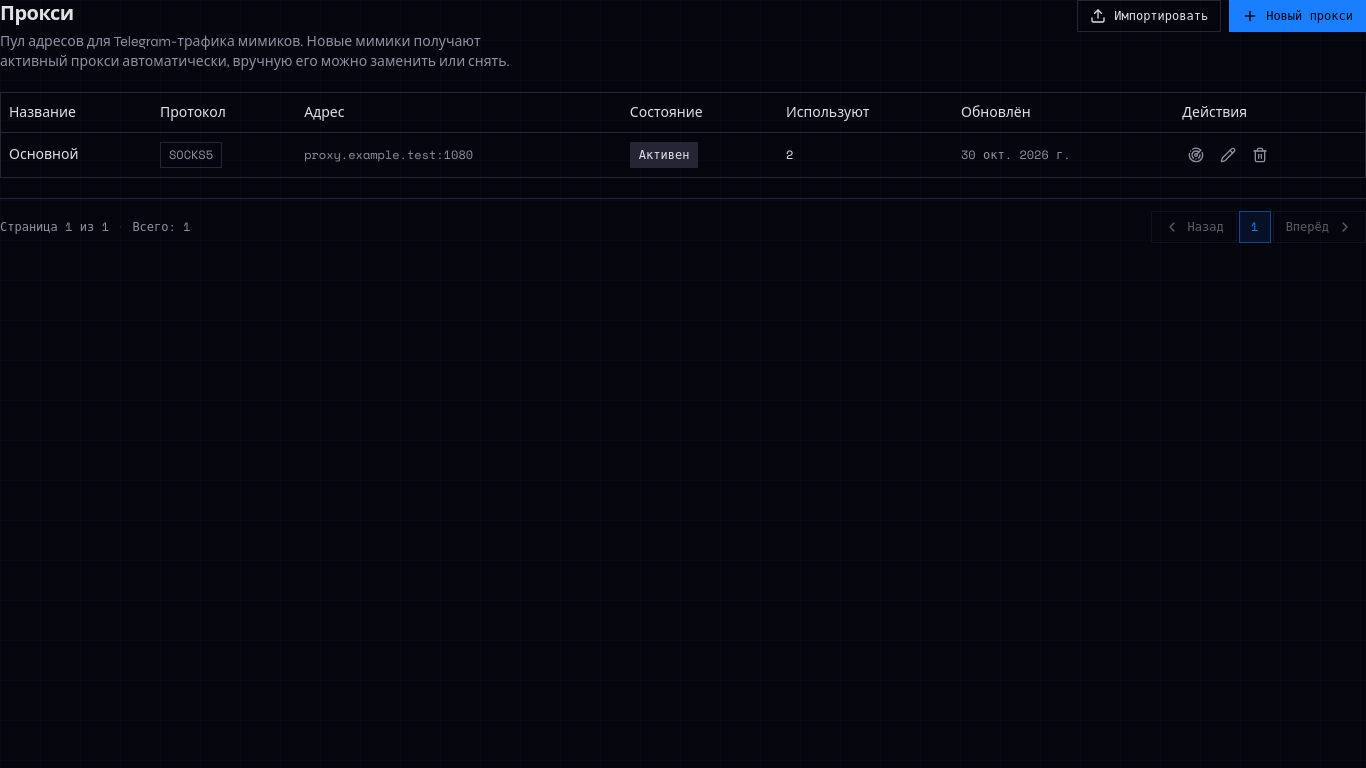
Test: AdminProxies › deletes an assigned proxy without asking to unpin it first
Click the button named "Удалить прокси Основной".
click(1260, 155)  # box [1246, 141, 1274, 169]
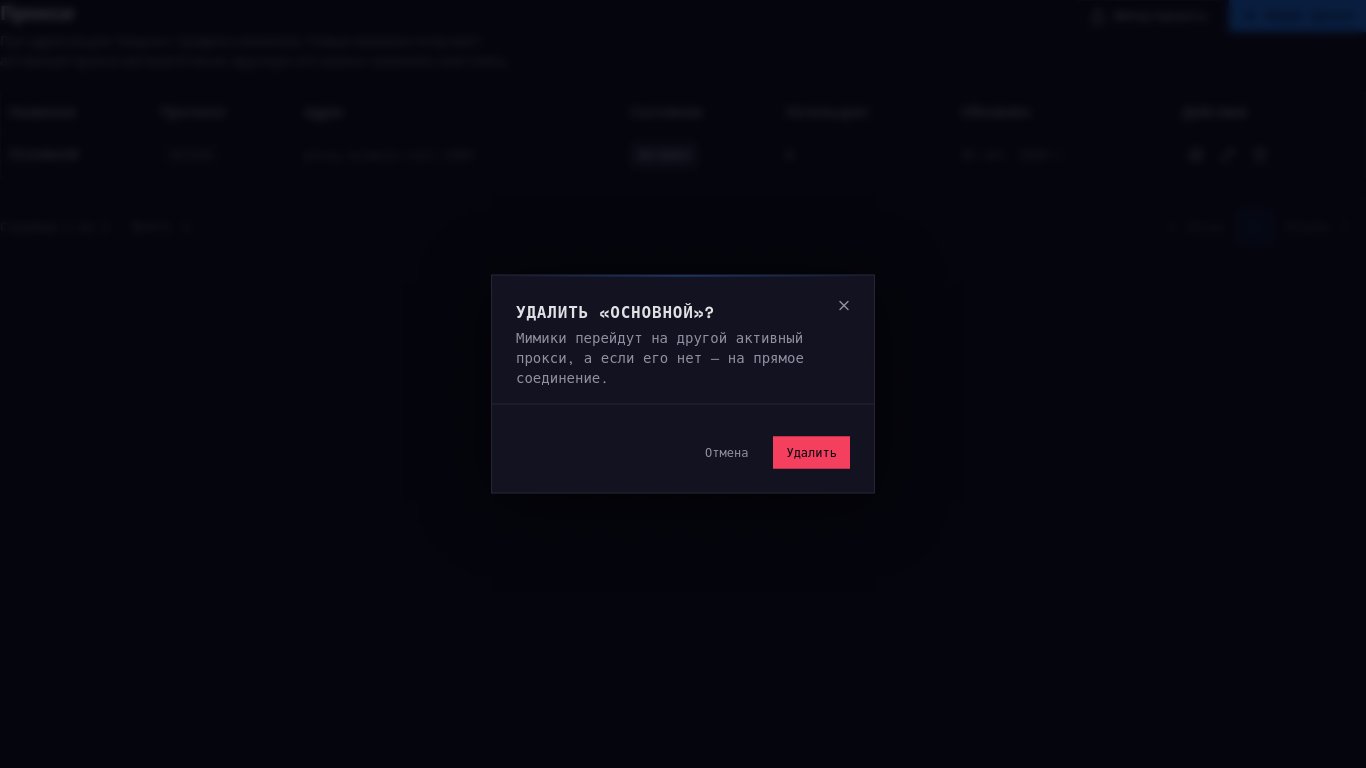
Check: the text "Мимики перейдут на другой активный прокси, а если его нет — на прямое соединение." is shown, box [516, 326, 804, 388]
Click the button "Удалить".
click(812, 452)  # box [773, 436, 850, 468]
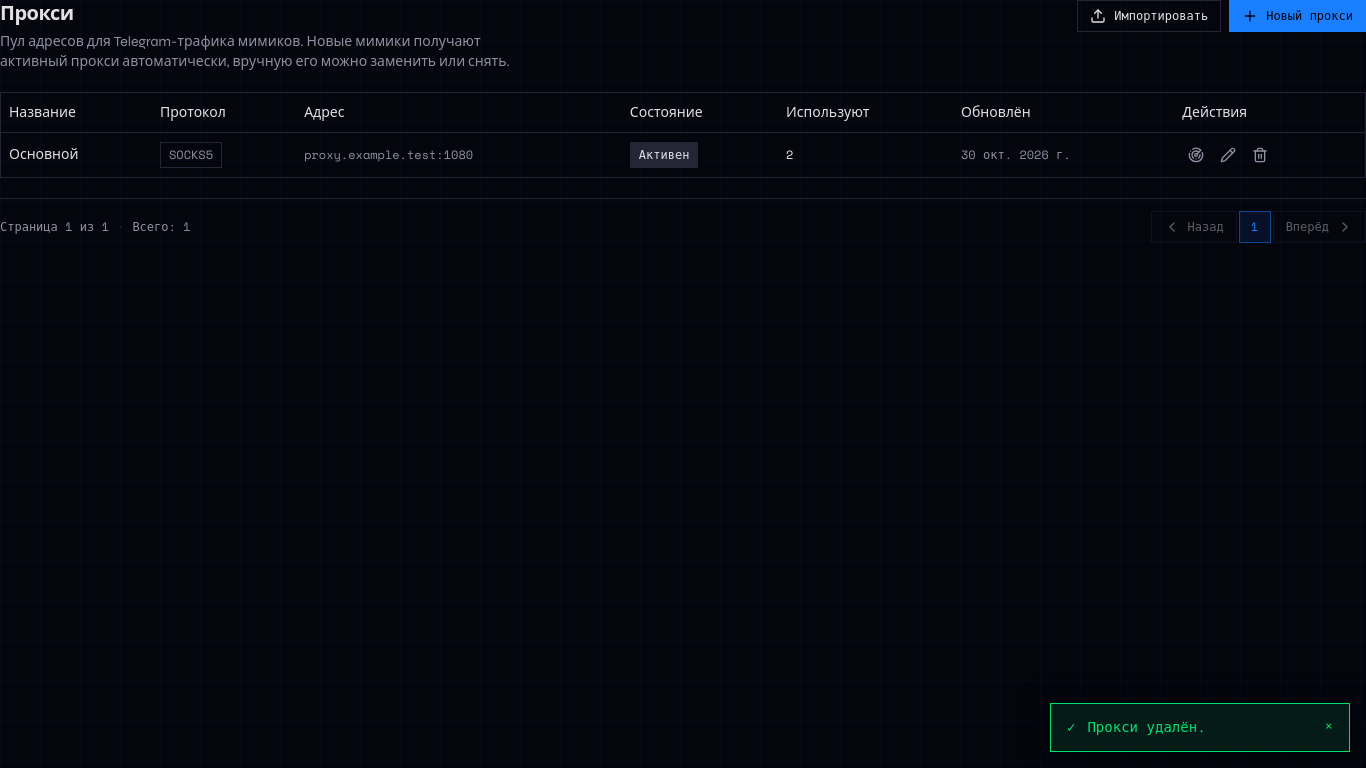
Check: the text "Прокси удалён." is shown, box [1087, 716, 1206, 737]
